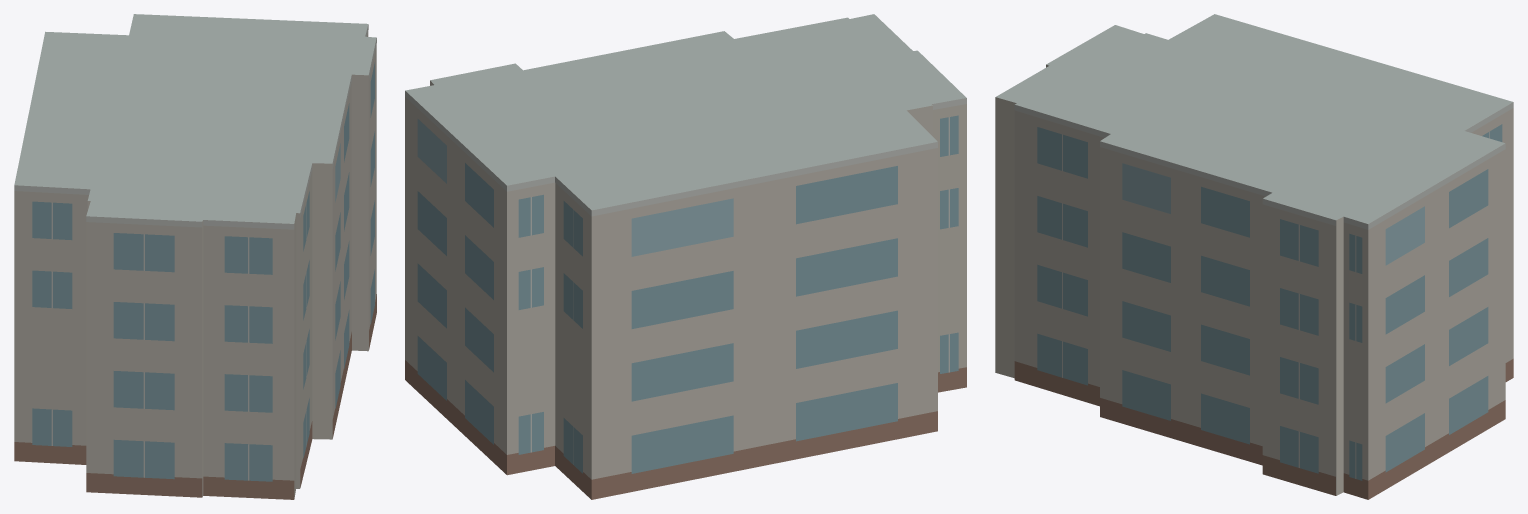
Rendered from survey-upis-32669875.glb.
The picture shows the model from 3 angles, left to right: view 1: azimuth 30°, elevation 25°; view 2: azimuth 150°, elevation 25°; view 3: azimuth 270°, elevation 25°; orthographic projection. The views are drawn at different scales.
Visible parts, largest first — view 1: survey-upis-32669875.tmp; view 2: survey-upis-32669875.tmp; view 3: survey-upis-32669875.tmp.
Boxes of the visible parts, x1=… form: survey-upis-32669875.tmp: x1=14, y1=14, x2=376, y2=499; survey-upis-32669875.tmp: x1=405, y1=14, x2=966, y2=499; survey-upis-32669875.tmp: x1=995, y1=14, x2=1513, y2=499.
Size of the model in its own units: 19.14 by 11.7 by 19.94.
